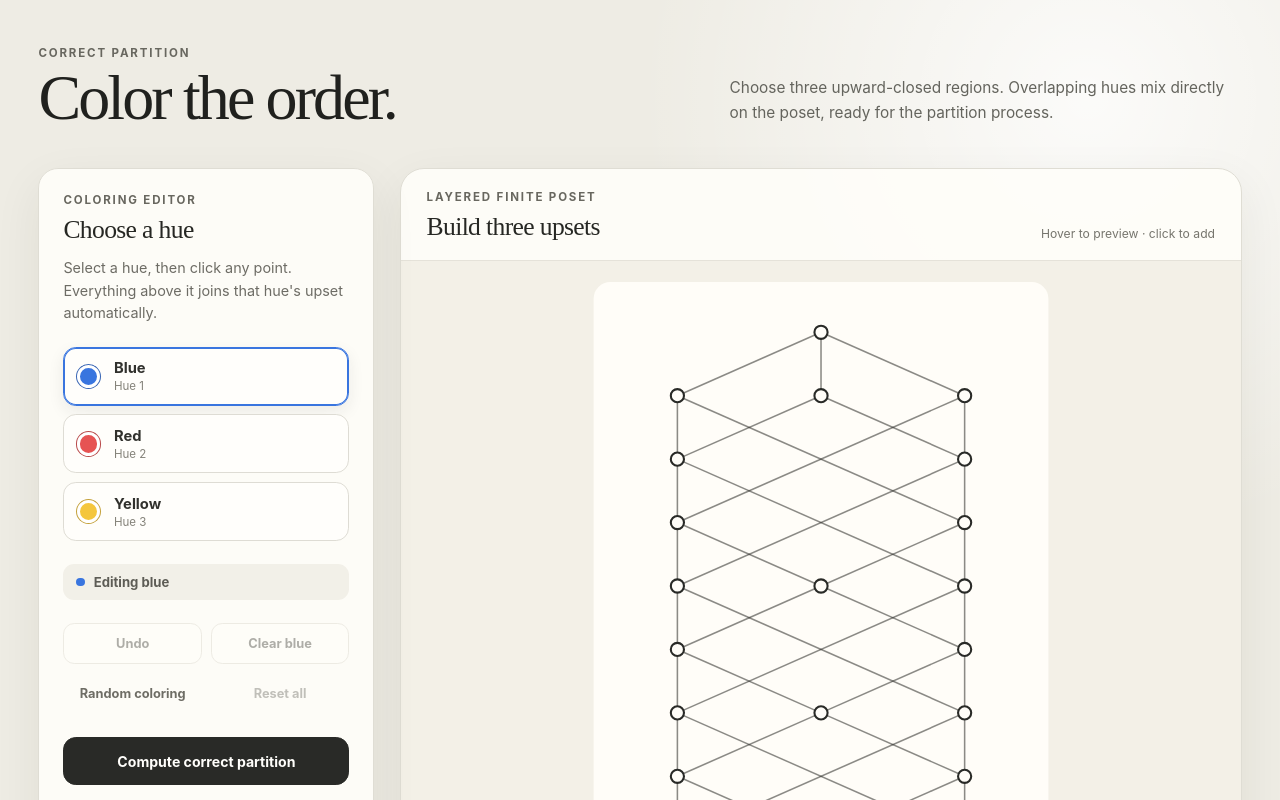
Test case: partition trace › steps with arrow keys and pauses active playback
The width and height of the screenshot is (1280, 800).
Click the button "Compute correct partition" at (206, 761), box [63,737,349,785]
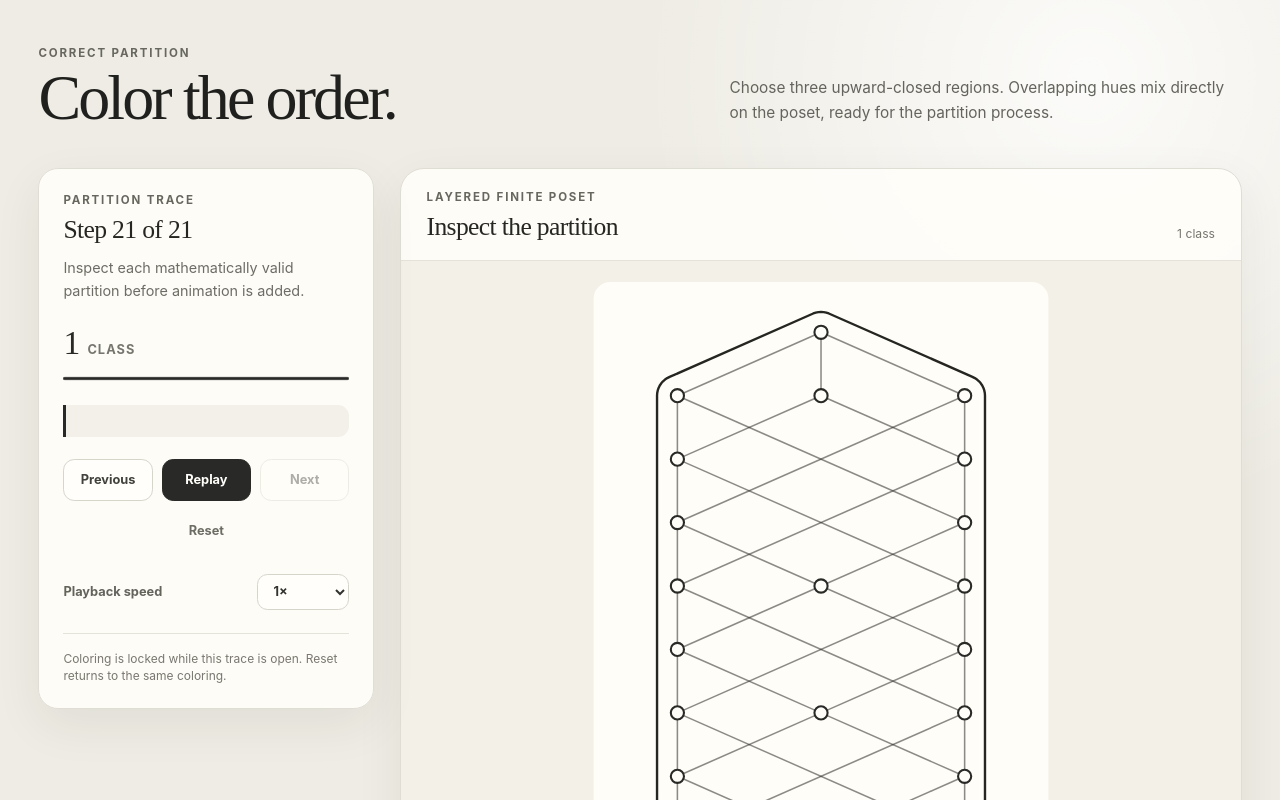
Click the button "Replay" at (206, 480), box [162,459,251,501]
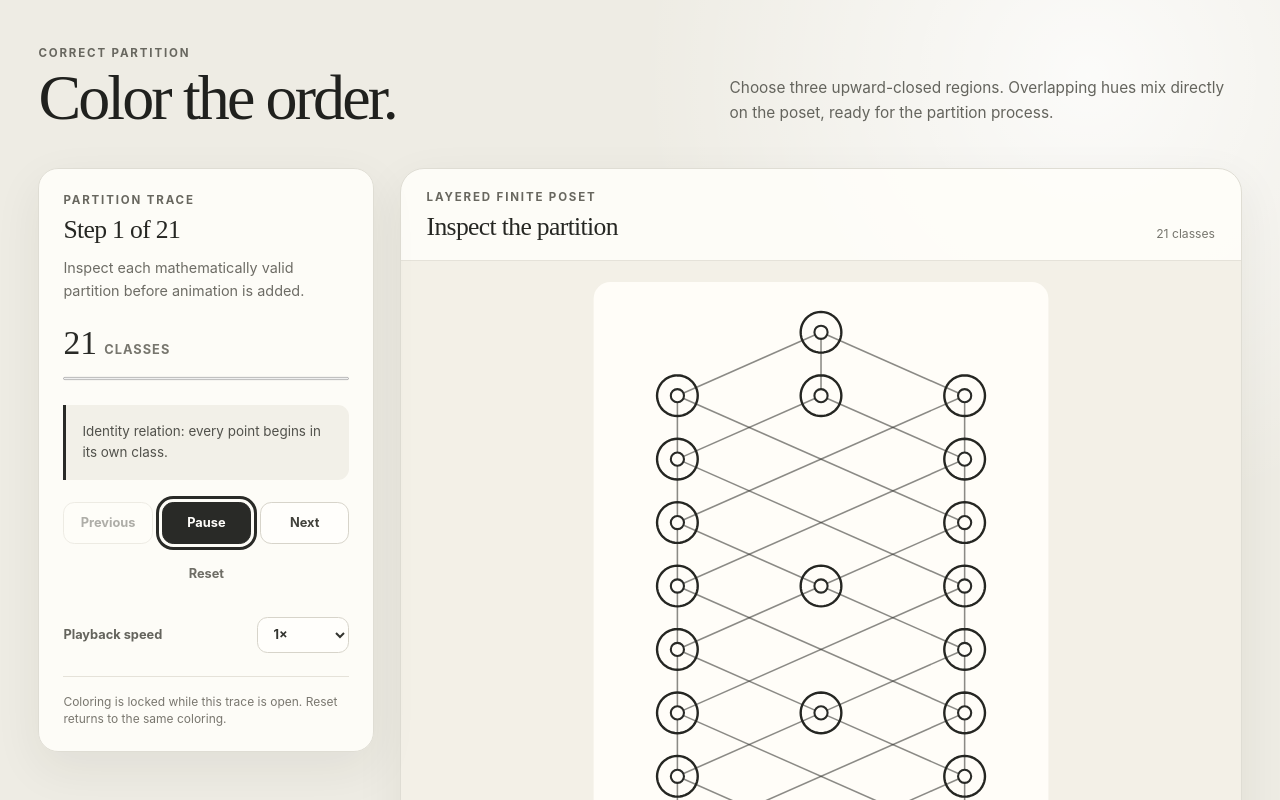
Expected: the heading "Step 1 of 21" is shown, [63,215,180,244]
Expected: the button "Pause" is shown, [162,502,251,544]
Press ArrowRight
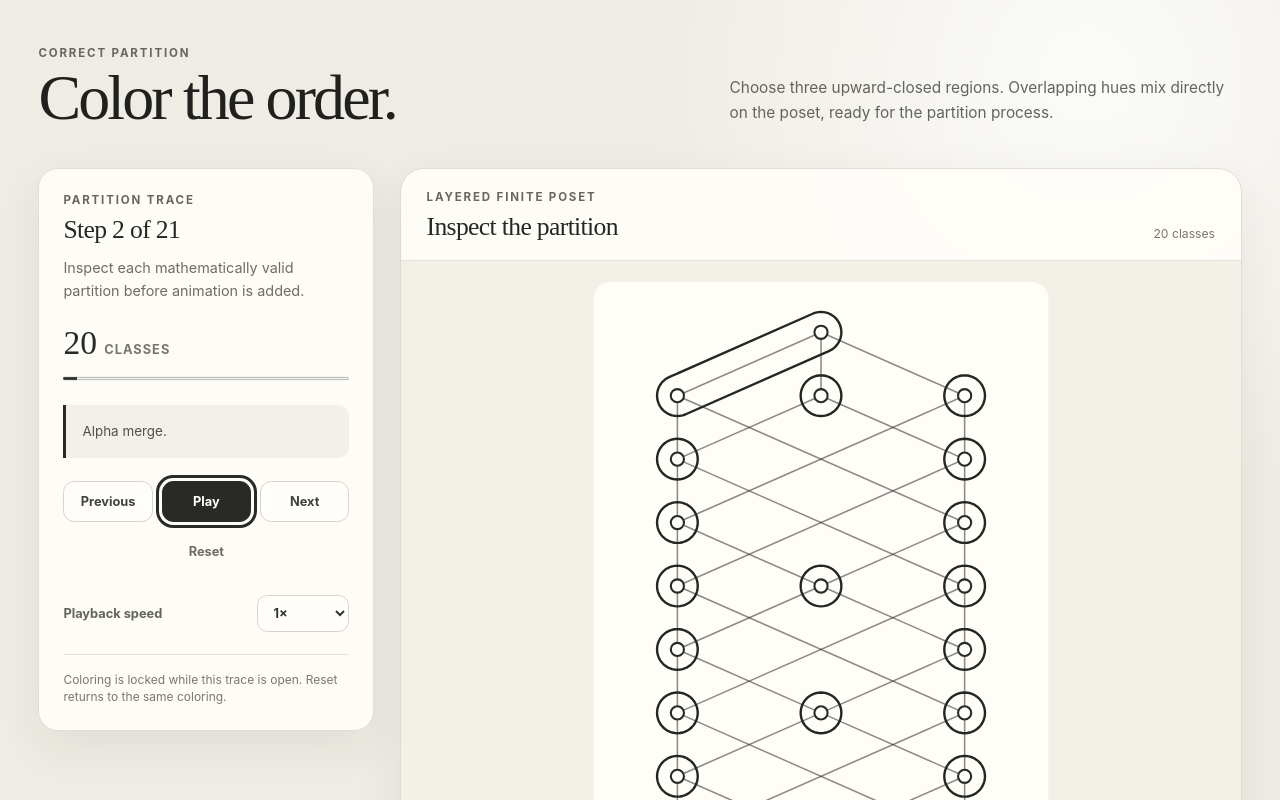
Expected: the heading "Step 2 of 21" is shown, [63,215,180,244]
Expected: the button "Play" is shown, [162,481,251,522]
Press ArrowLeft
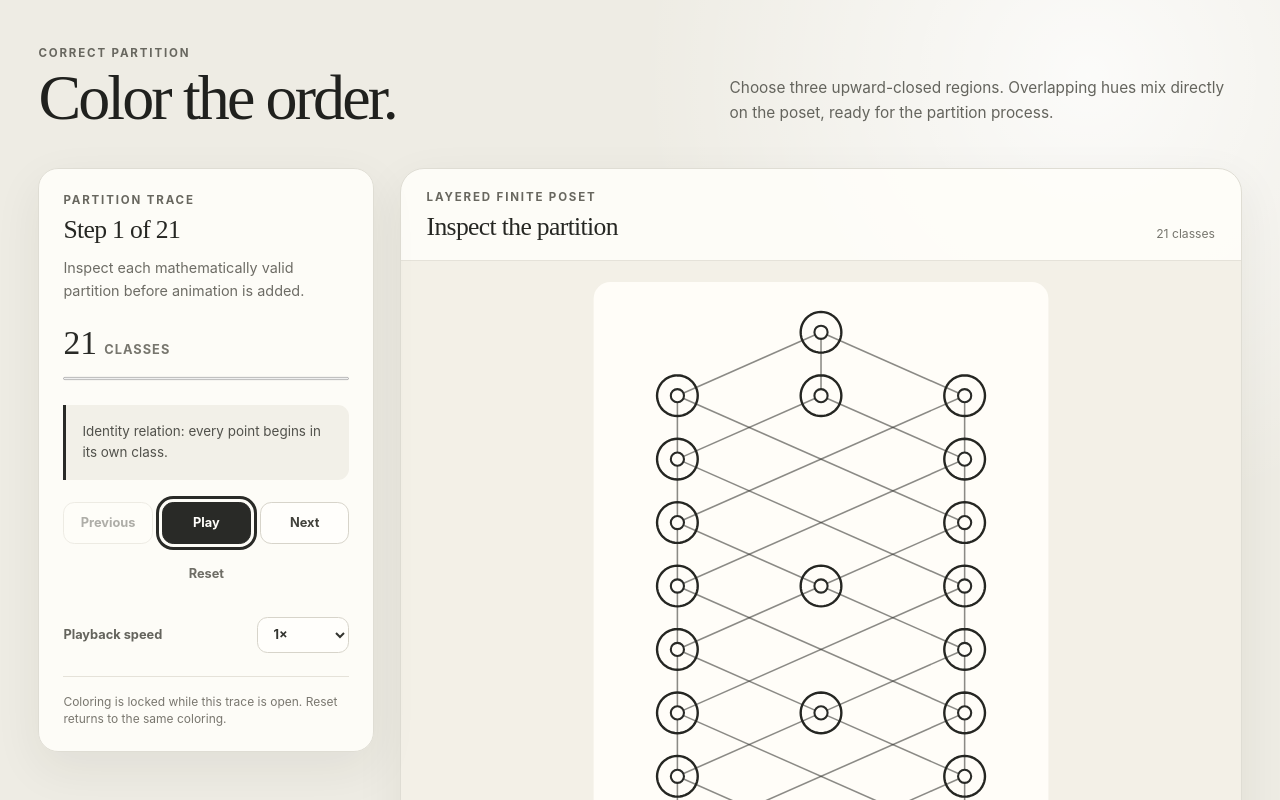
Expected: the heading "Step 1 of 21" is shown, [63,215,180,244]
Expected: the text "Identity relation: every point begins in its own class." is shown, [63,405,349,480]
